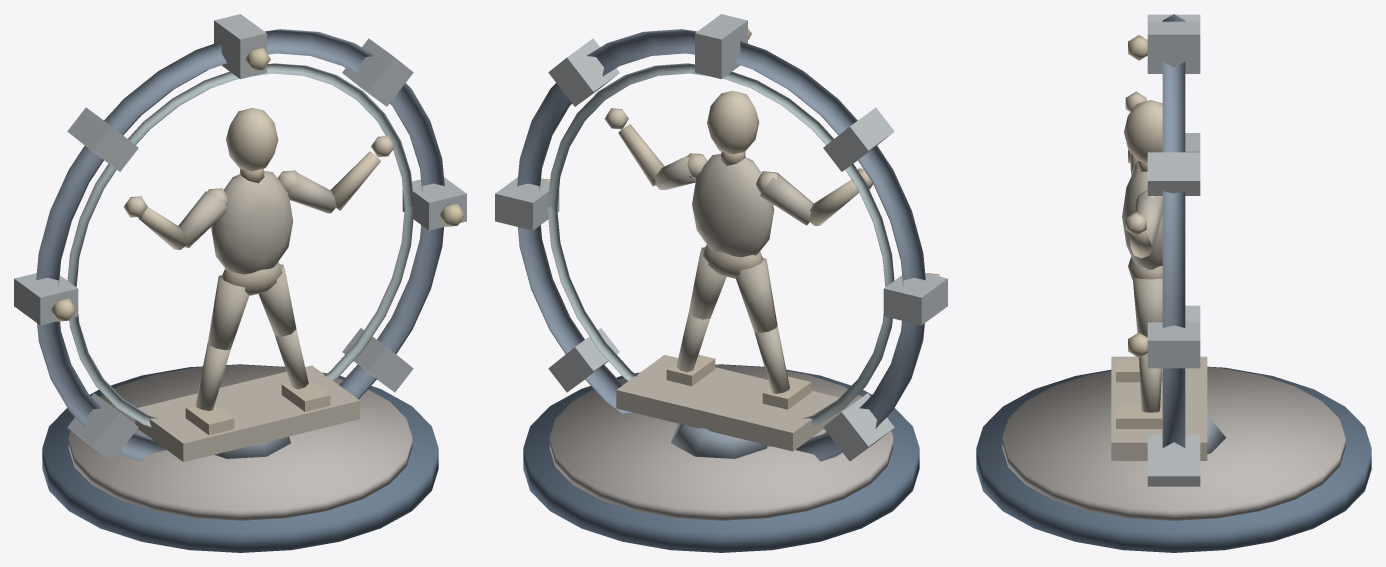
Rendered from ART-19.glb.
The picture shows the model from 3 angles, left to right: view 1: azimuth 30°, elevation 25°; view 2: azimuth 150°, elevation 25°; view 3: azimuth 270°, elevation 25°; orthographic projection.
Parts seen in each view (by area): view 1: world; view 2: world; view 3: world.
Part boxes in pixels (x1=…): world: x1=14, y1=14, x2=466, y2=552; world: x1=495, y1=14, x2=947, y2=552; world: x1=976, y1=14, x2=1371, y2=552.
Bounding box in the file's own units: 2 × 2 × 1.61.
